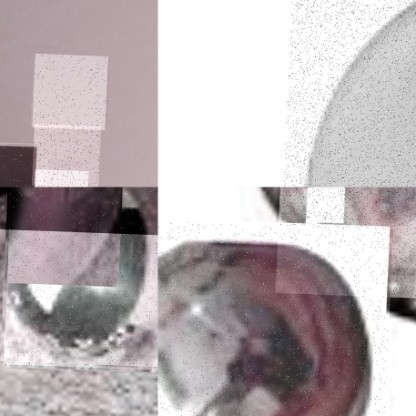ironball: (157, 218, 393, 415), (5, 187, 157, 369), (285, 0, 415, 187), (276, 187, 415, 296), (0, 187, 157, 233), (34, 52, 109, 128), (34, 122, 102, 186), (0, 144, 39, 187), (36, 168, 91, 187)
